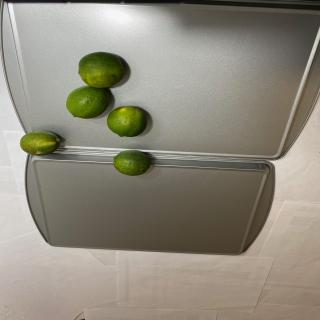Lemon: (78, 52, 125, 88), (66, 85, 109, 119), (107, 106, 147, 137), (20, 130, 60, 156), (113, 149, 151, 176)
